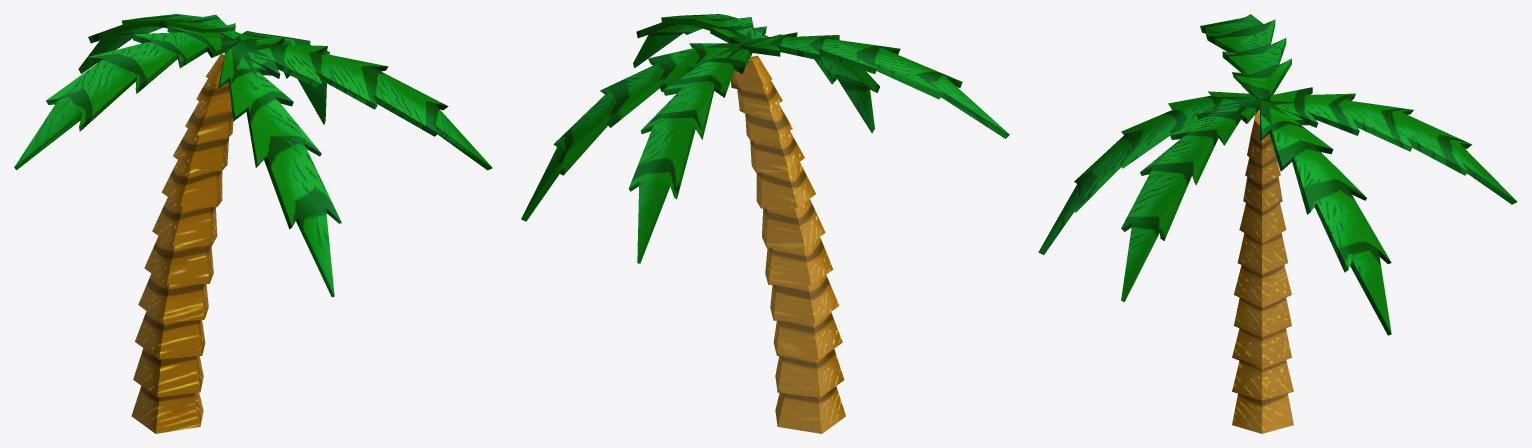
File: Palmtree.glb
The picture shows the model from 3 angles, left to right: view 1: azimuth 30°, elevation 25°; view 2: azimuth 150°, elevation 25°; view 3: azimuth 270°, elevation 25°; orthographic projection. The views are drawn at different scales.
Visible parts, largest first — view 1: Palmtree; view 2: Palmtree; view 3: Palmtree.
Part boxes in pixels (bbox=[...]): Palmtree: bbox=[14, 14, 492, 433]; Palmtree: bbox=[521, 14, 1009, 433]; Palmtree: bbox=[1038, 14, 1517, 433].
Bounding box in the file's own units: 208 × 177 × 208.
1 material, 1 textured.
